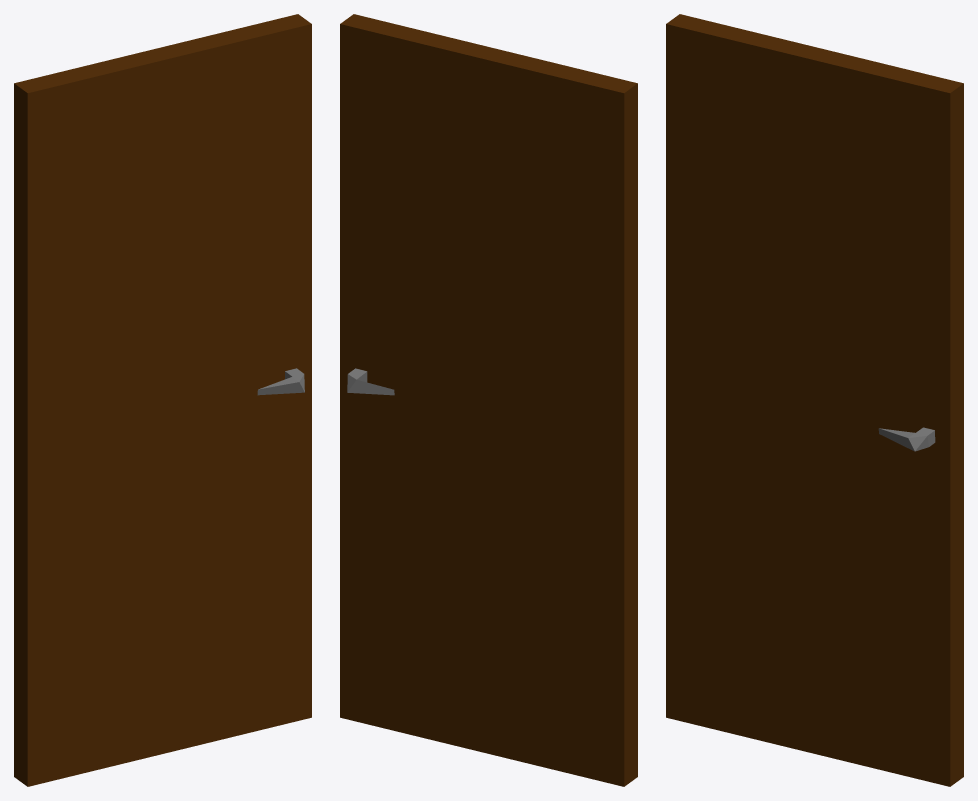
File: Dark Brown Metal Door.glb
3 renders of one model, left to right at view 1: azimuth 30°, elevation 25°; view 2: azimuth 150°, elevation 25°; view 3: azimuth 330°, elevation 25°, orthographic.
Visible parts, largest first — view 1: Door, Handle; view 2: Door, Handle; view 3: Door, Handle.
Part boxes in pixels (x1,y1,x2,y2): Door: [14, 14, 311, 786]; Handle: [257, 368, 304, 395]; Door: [340, 14, 637, 786]; Handle: [347, 368, 394, 395]; Door: [666, 14, 963, 786]; Handle: [878, 427, 935, 451].
Bounding box in the file's own units: 0.9144 × 2.13 × 0.2379.
